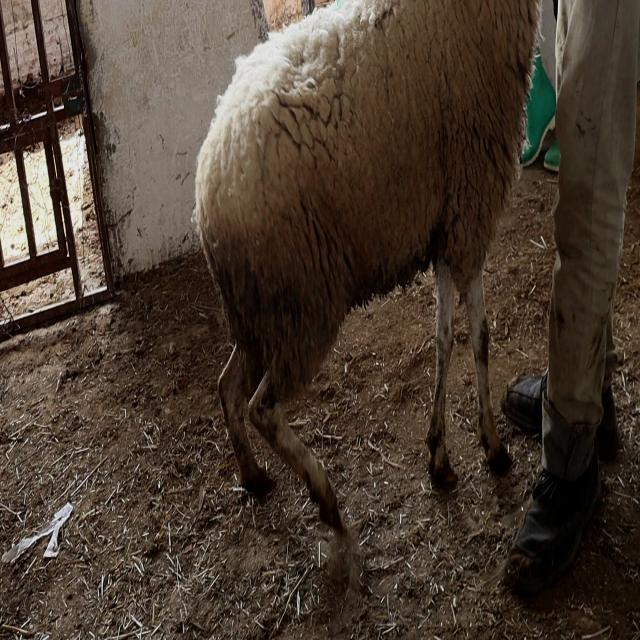Score_3: (195, 0, 539, 538)
